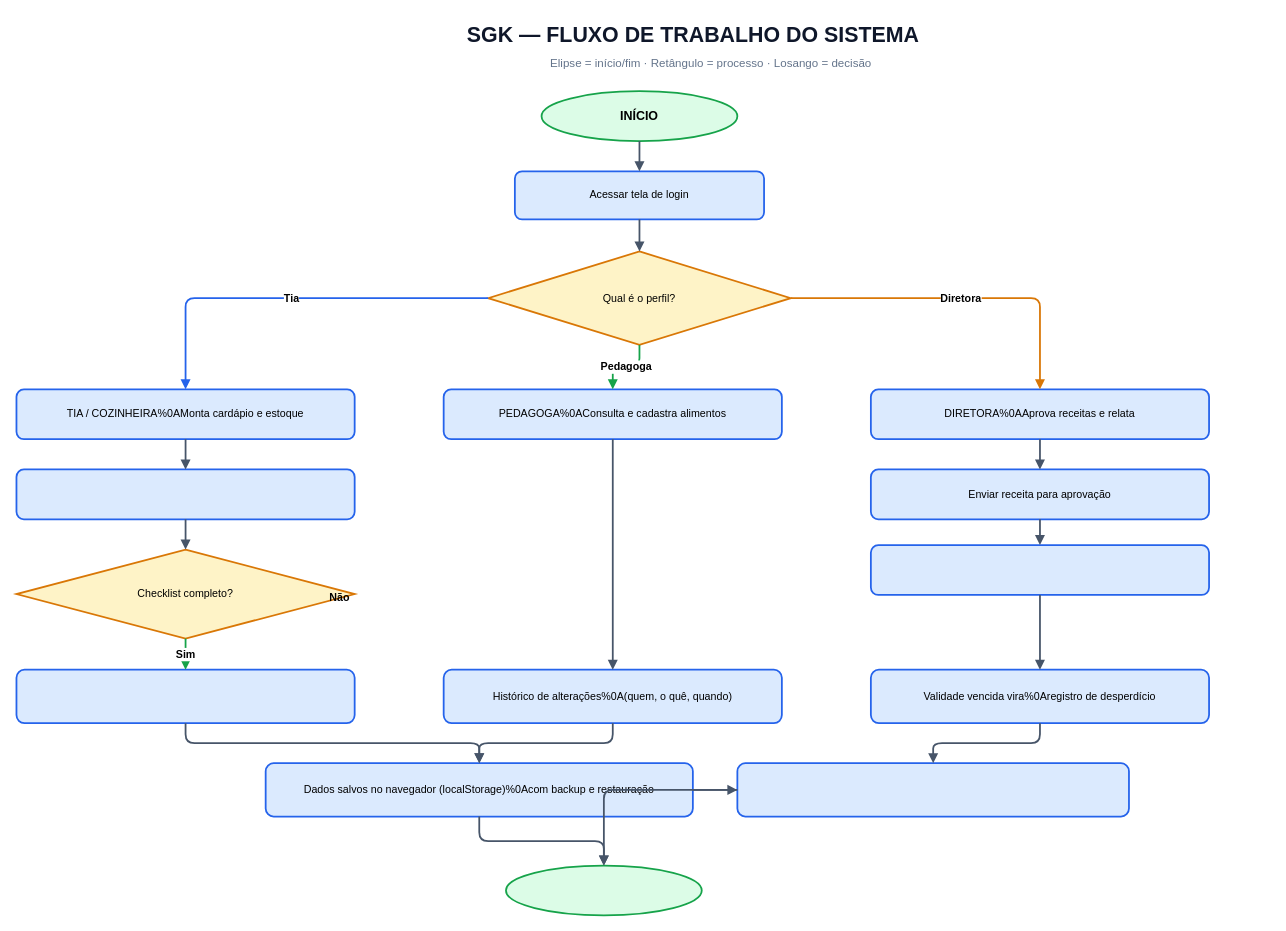
The diagram is 1286 pixels wide and 931 high, and some of its shapes have lost their labels. Here are the shapes that lost their labels. From the top down, the centre of each, then its label:
(x=185, y=494): Fazer checklist diário (8 itens)
(x=1040, y=569): Diretora aprova ou rejeita
(x=185, y=696): Registro automático%0Acom nome, data e hora
(x=932, y=789): Deploy no Render → site no ar
(x=603, y=890): FIM
